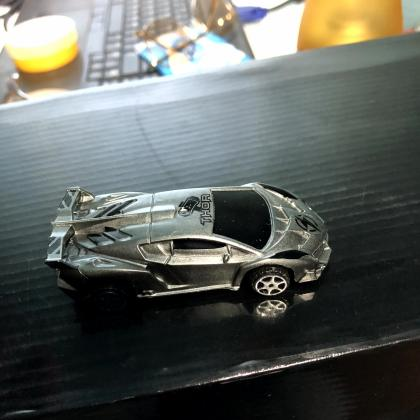Car: (40, 178, 338, 312)
